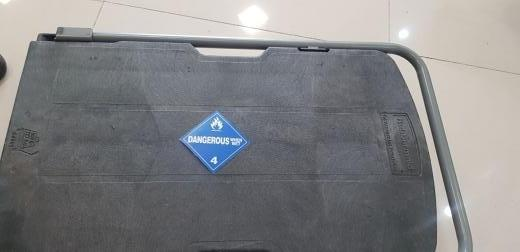dangerous-when-wet: (178, 110, 246, 174)
